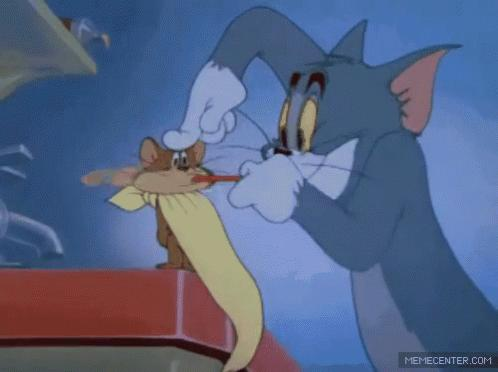jerry: (138, 136, 216, 272)
